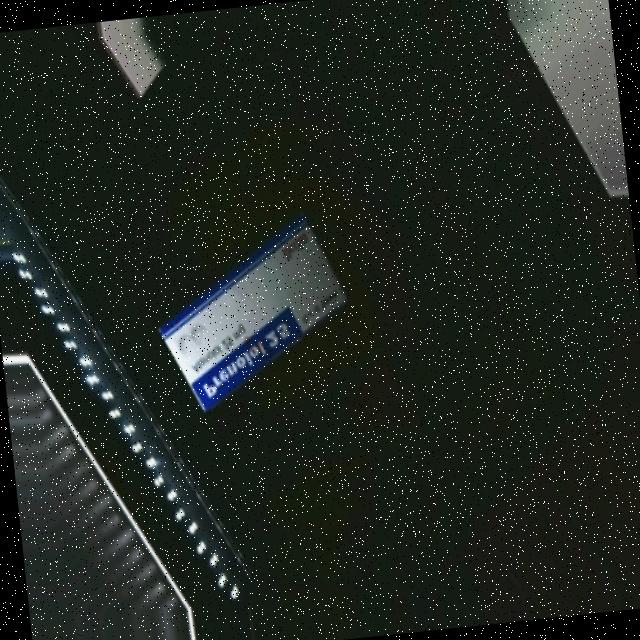prenolol: (144, 208, 365, 415)
